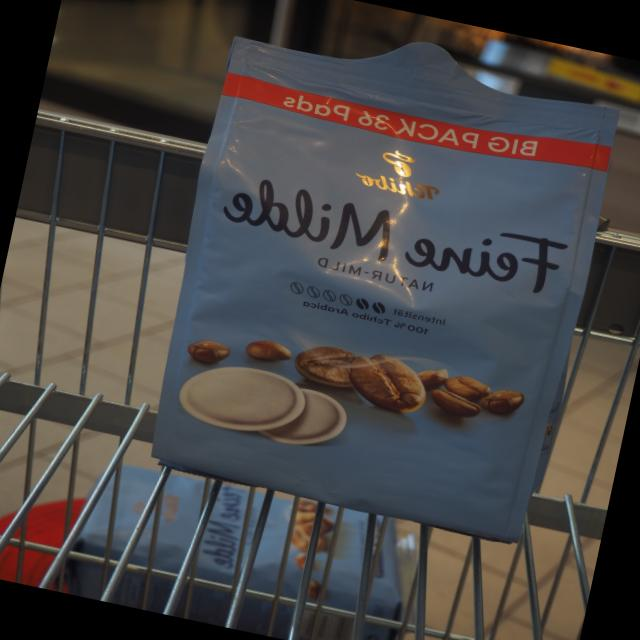FM 36 Pads: (127, 0, 640, 555)
